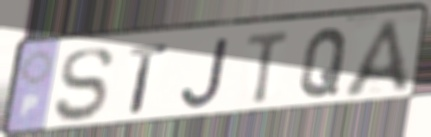A: (340, 16, 415, 101)
J: (179, 35, 232, 110)
Q: (297, 26, 351, 100)
S: (52, 45, 116, 126)
T: (244, 27, 293, 107), (126, 42, 170, 115)
